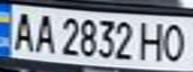2: (54, 14, 81, 57), (115, 17, 139, 61)
3: (97, 17, 118, 60)
8: (78, 16, 100, 58)
A: (6, 8, 39, 53), (30, 10, 57, 54)
H: (136, 19, 169, 62)
O: (157, 20, 190, 63)
